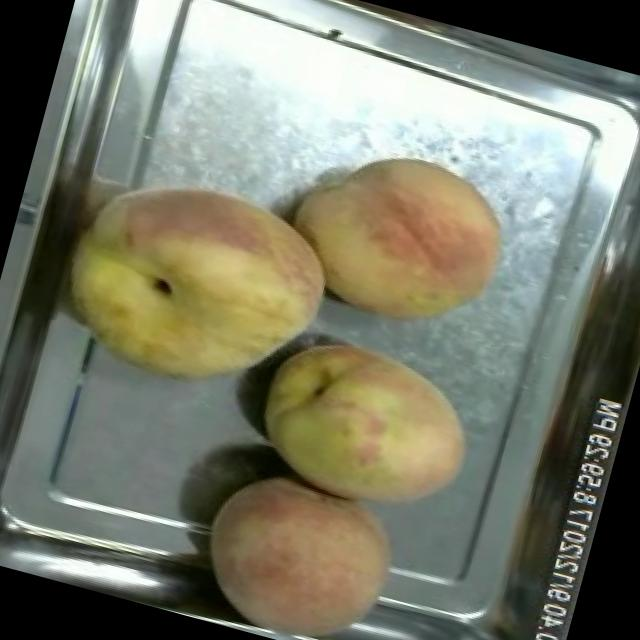Fruit: (36, 143, 361, 426), (266, 120, 530, 353), (234, 311, 496, 534), (183, 450, 422, 640)
